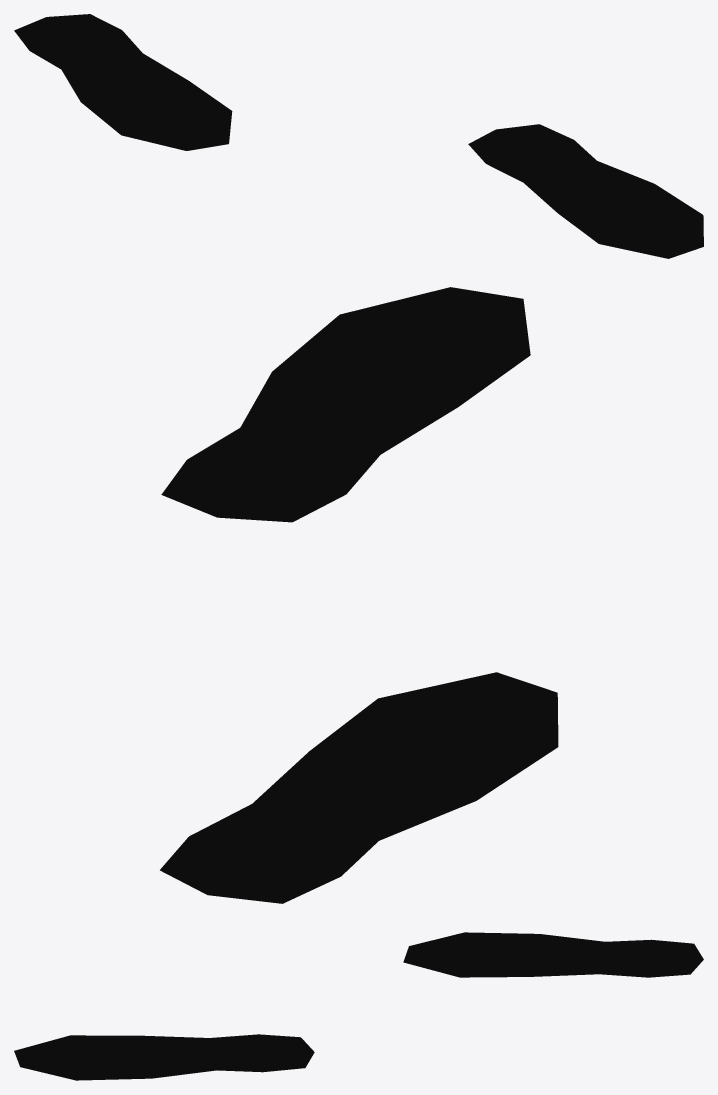
Rendered from Footsteps.fbx.
The picture shows the model from 3 angles, top to bottom: view 1: azimuth 30°, elevation 25°; view 2: azimuth 150°, elevation 25°; view 3: azimuth 270°, elevation 25°; orthographic projection. The views are drawn at different scales.
Visible parts, largest first — view 1: Footprints; view 2: Footprints; view 3: Footprints.
Boxes of the visible parts, box(x1,y1,x2,y2) form: Footprints: box(14, 14, 703, 258); Footprints: box(160, 287, 558, 903); Footprints: box(14, 932, 703, 1080).
Bounding box in the file's own units: 208 × 409 × 0.
